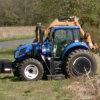Tractor: (6, 16, 97, 92)
